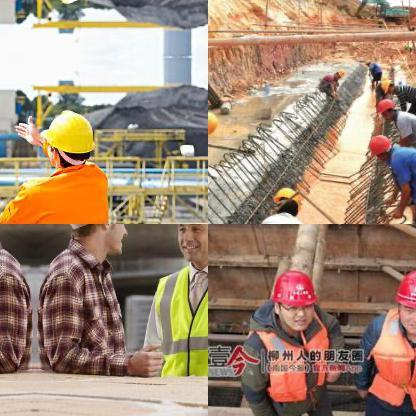Helmet: (33, 106, 95, 168), (267, 263, 321, 333), (53, 224, 131, 258), (393, 265, 415, 335), (167, 224, 207, 262), (270, 184, 302, 220), (365, 133, 391, 161), (374, 96, 396, 120), (32, 0, 96, 6), (208, 110, 221, 135), (379, 78, 395, 92), (330, 68, 344, 80)
